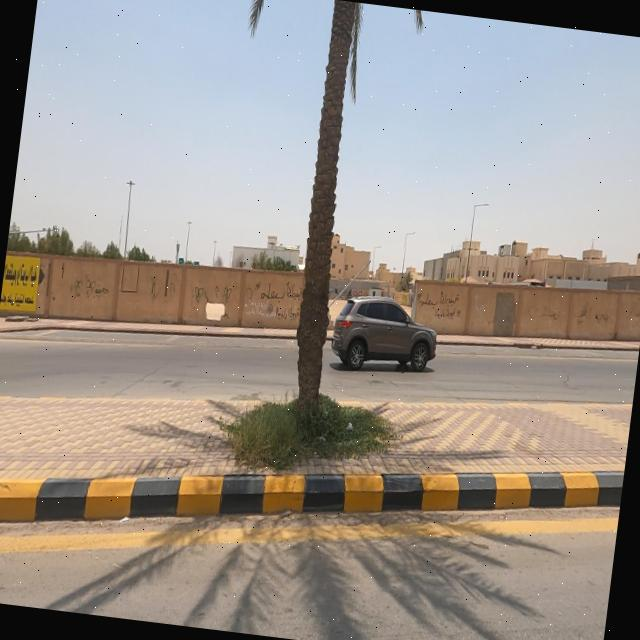Graffiti: (244, 276, 305, 324), (416, 289, 463, 323), (524, 304, 562, 324), (146, 279, 164, 305), (573, 304, 593, 326), (213, 286, 233, 305), (594, 309, 613, 325), (71, 281, 85, 300), (84, 279, 97, 299), (194, 286, 207, 305), (96, 284, 111, 300), (164, 268, 172, 298), (39, 268, 45, 287)
